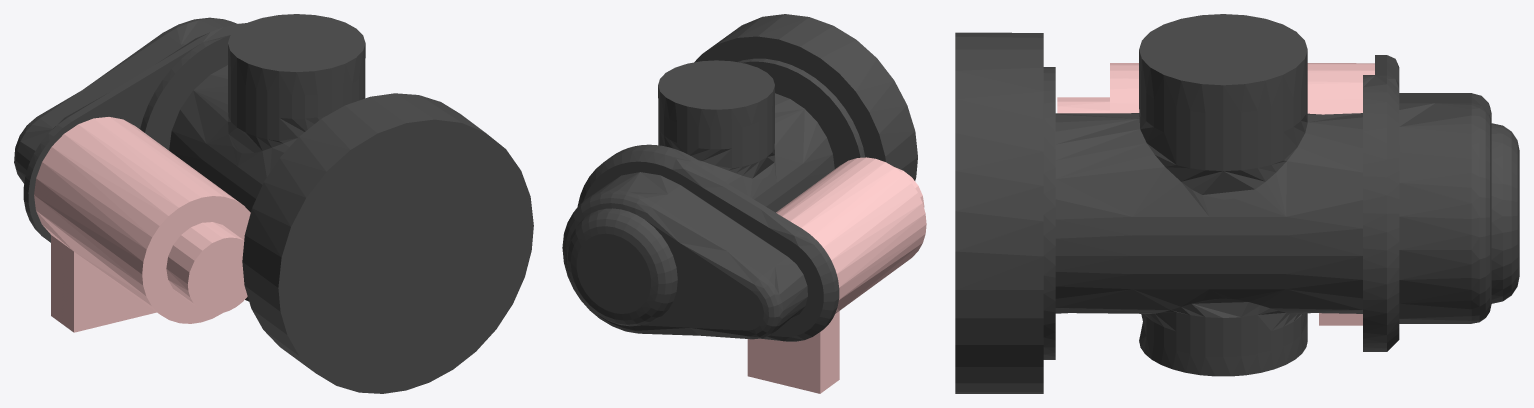
Rendered from CHEST_LINK0_mesh.dae.
3 renders of one model, left to right at view 1: azimuth 30°, elevation 25°; view 2: azimuth 150°, elevation 25°; view 3: azimuth 270°, elevation 25°, orthographic. The views are drawn at different scales.
Parts seen in each view (by area): view 1: CHEST_LINK0 (×2); view 2: CHEST_LINK0 (×2); view 3: CHEST_LINK0 (×2).
Boxes of the visible parts, <box> form: CHEST_LINK0 (×2): <box>14,14,533,393</box>; CHEST_LINK0 (×2): <box>562,14,926,393</box>; CHEST_LINK0 (×2): <box>955,14,1519,393</box>.
Size of the model in its own units: 0.1177 by 0.092 by 0.1405.
